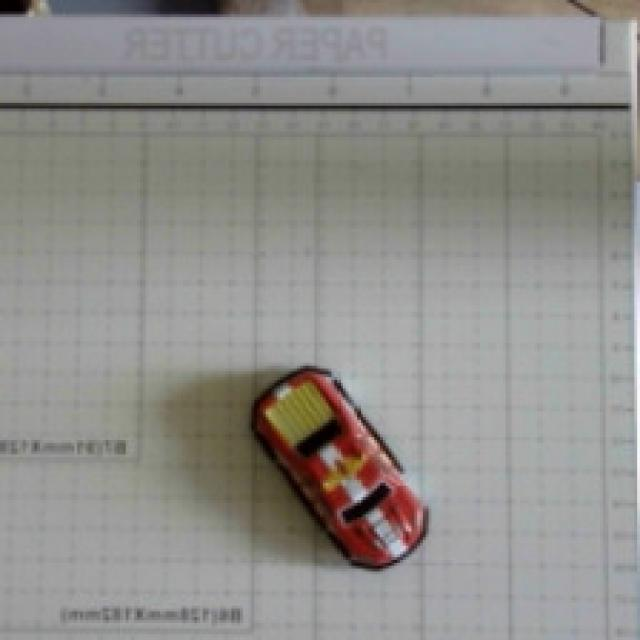Red Car: (209, 320, 454, 596)
